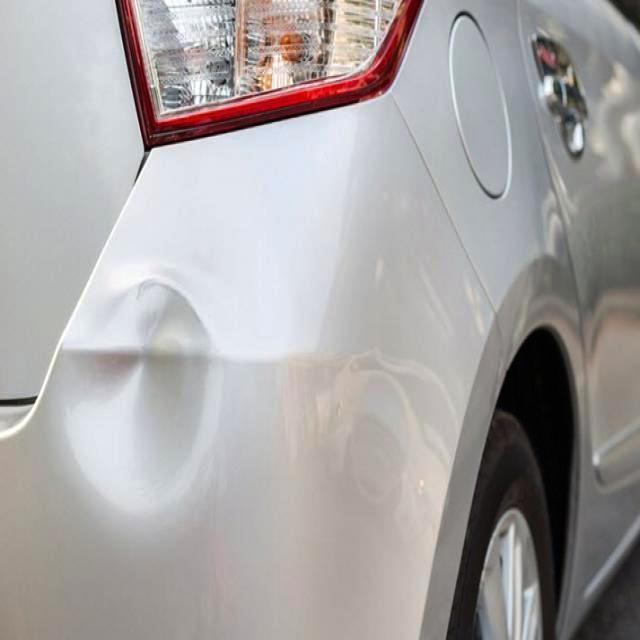minor: (41, 261, 231, 549)
